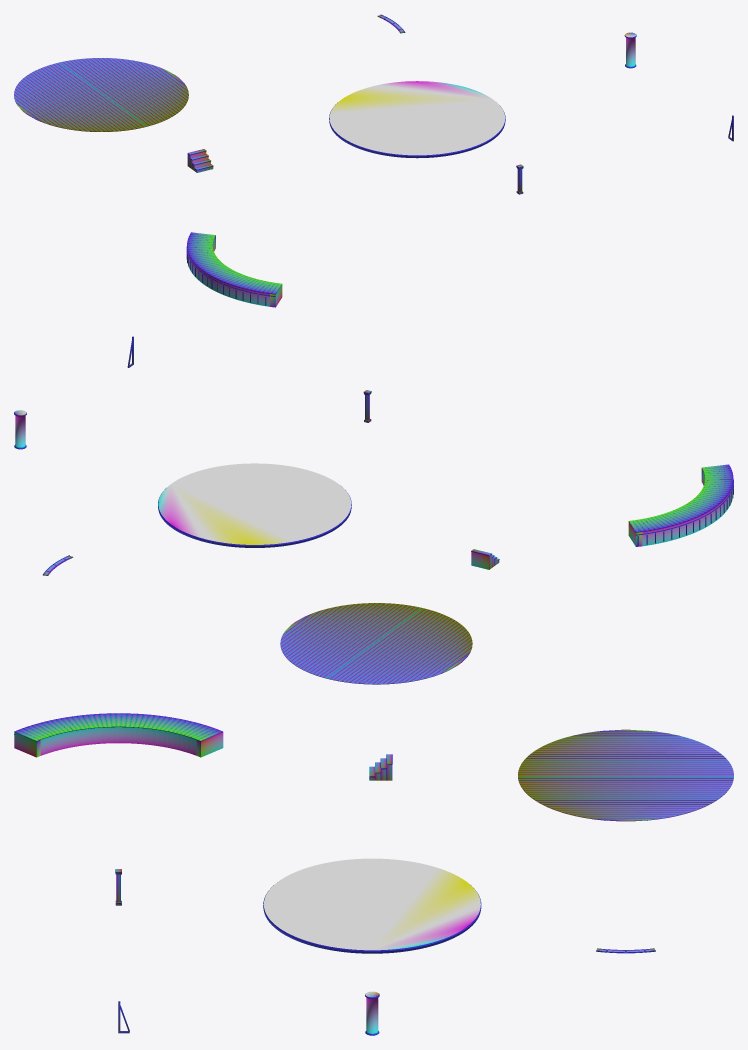
Rendered from StageShift_Stage.fbx.
3 renders of one model, top to bottom at view 1: azimuth 30°, elevation 25°; view 2: azimuth 150°, elevation 25°; view 3: azimuth 270°, elevation 25°, orthographic. The views are drawn at different scales.
Parts seen in each view (by area): view 1: Turntable_Deck, Turntable_Plank_Surface, Curved_Stage_Apron; view 2: Turntable_Deck, Turntable_Plank_Surface, Curved_Stage_Apron; view 3: Turntable_Deck, Turntable_Plank_Surface, Curved_Stage_Apron, Turntable_Hub_and_Cap.
Boxes of the visible parts, x1,y1,x2,y2 form: Turntable_Deck: (329, 81, 505, 158); Turntable_Plank_Surface: (14, 58, 188, 131); Curved_Stage_Apron: (186, 232, 282, 307); Turntable_Deck: (158, 463, 351, 547); Turntable_Plank_Surface: (280, 603, 472, 684); Curved_Stage_Apron: (628, 464, 733, 546); Turntable_Deck: (263, 858, 481, 953); Turntable_Plank_Surface: (518, 729, 733, 821); Curved_Stage_Apron: (14, 713, 223, 757); Turntable_Hub_and_Cap: (365, 991, 379, 1035).
Size of the model in its own units: 6029 by 481 by 5678.
